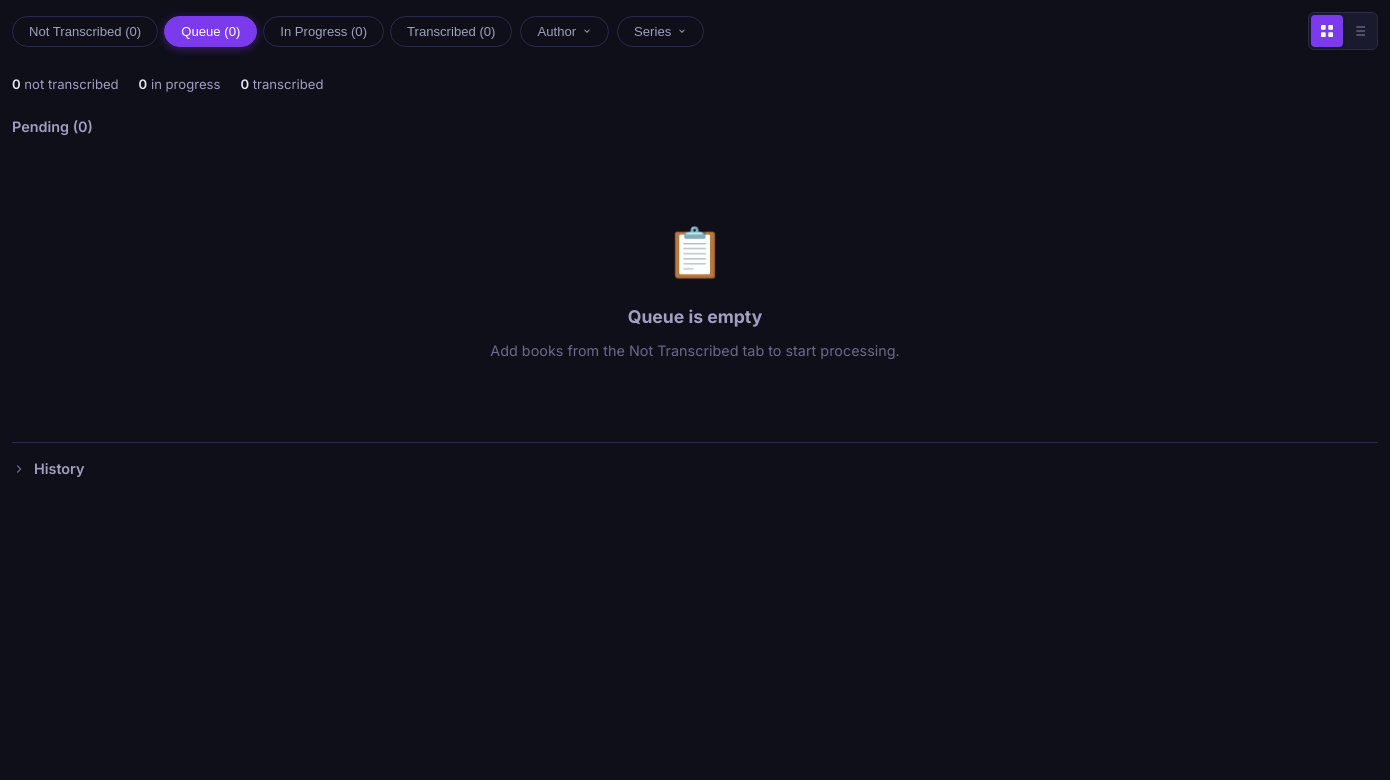
Test: Retry on the Queue tab history (issue #247) › does not offer Retry on a completed row
Click the element with class "transcription-history-toggle" at (695, 468), box [12,442,1378,494]
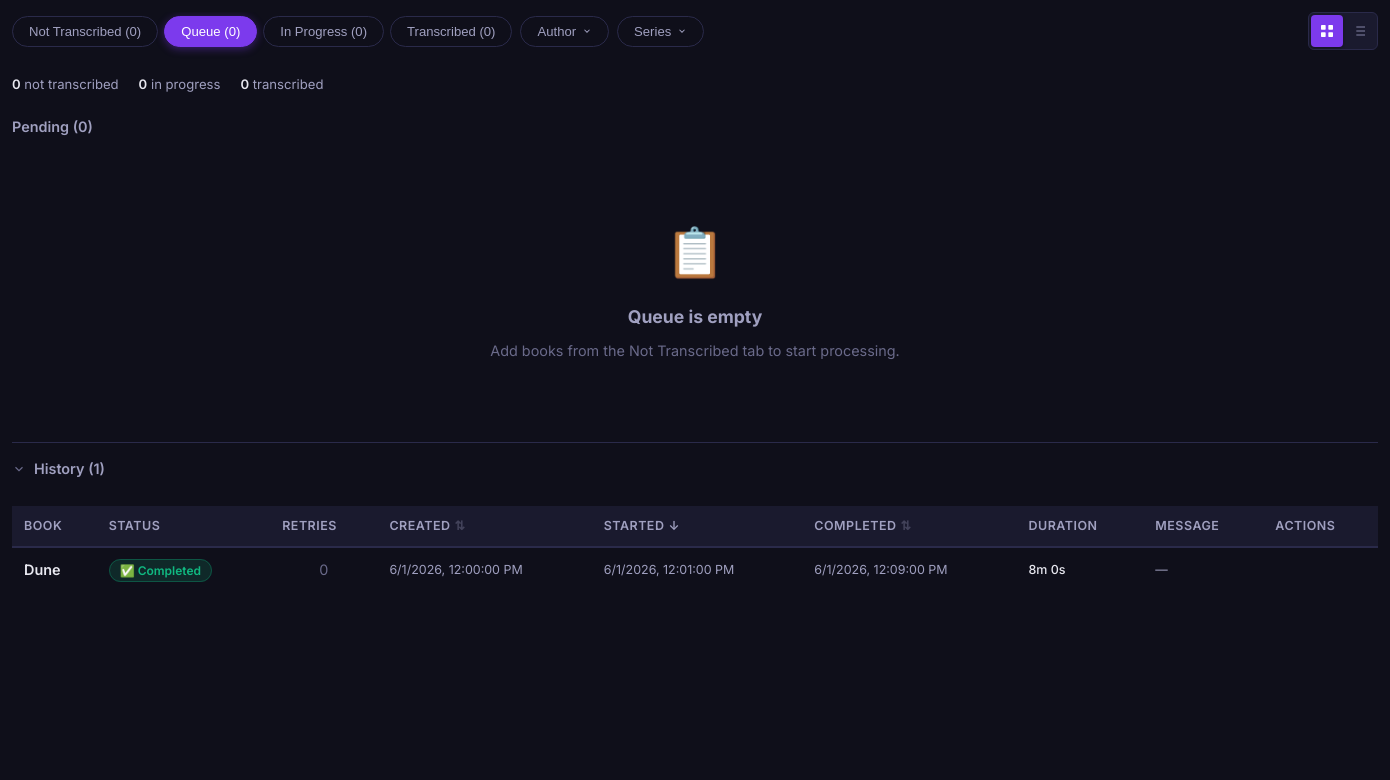
Expected: the text "Dune" is shown, [24,561,60,578]
